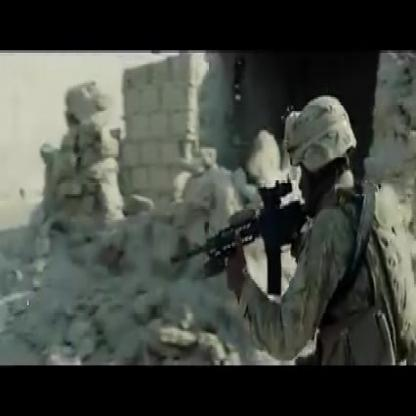Gun: (163, 159, 327, 358)
